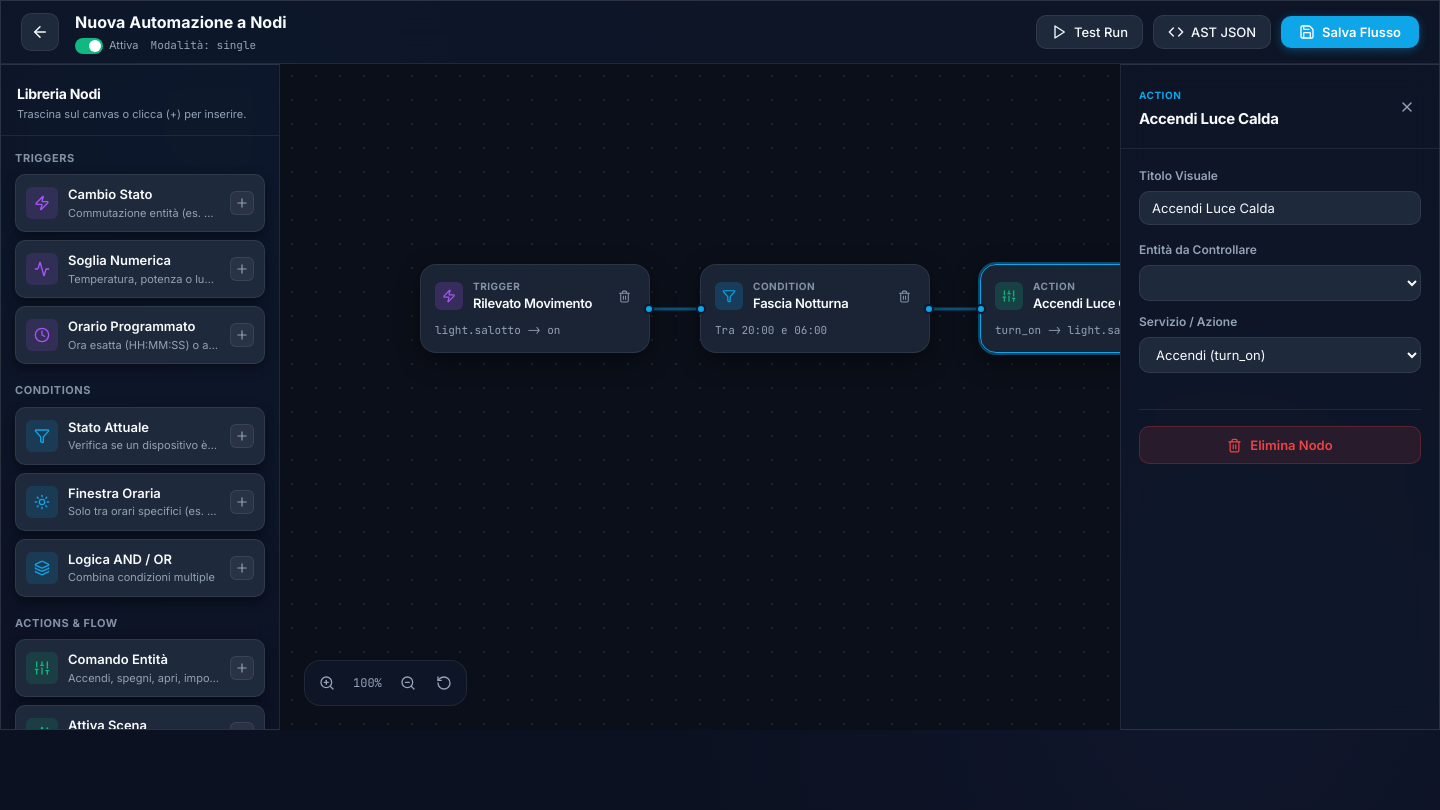
it: FlowEditorView.vue › opens AST JSON modal when clicking AST JSON button
What coordinates should you click on to do the following:
click the button with class "btn-tool" showing "AST JSON"
I would click on:
 (1212, 32)
Its box is [1153,15,1271,49].
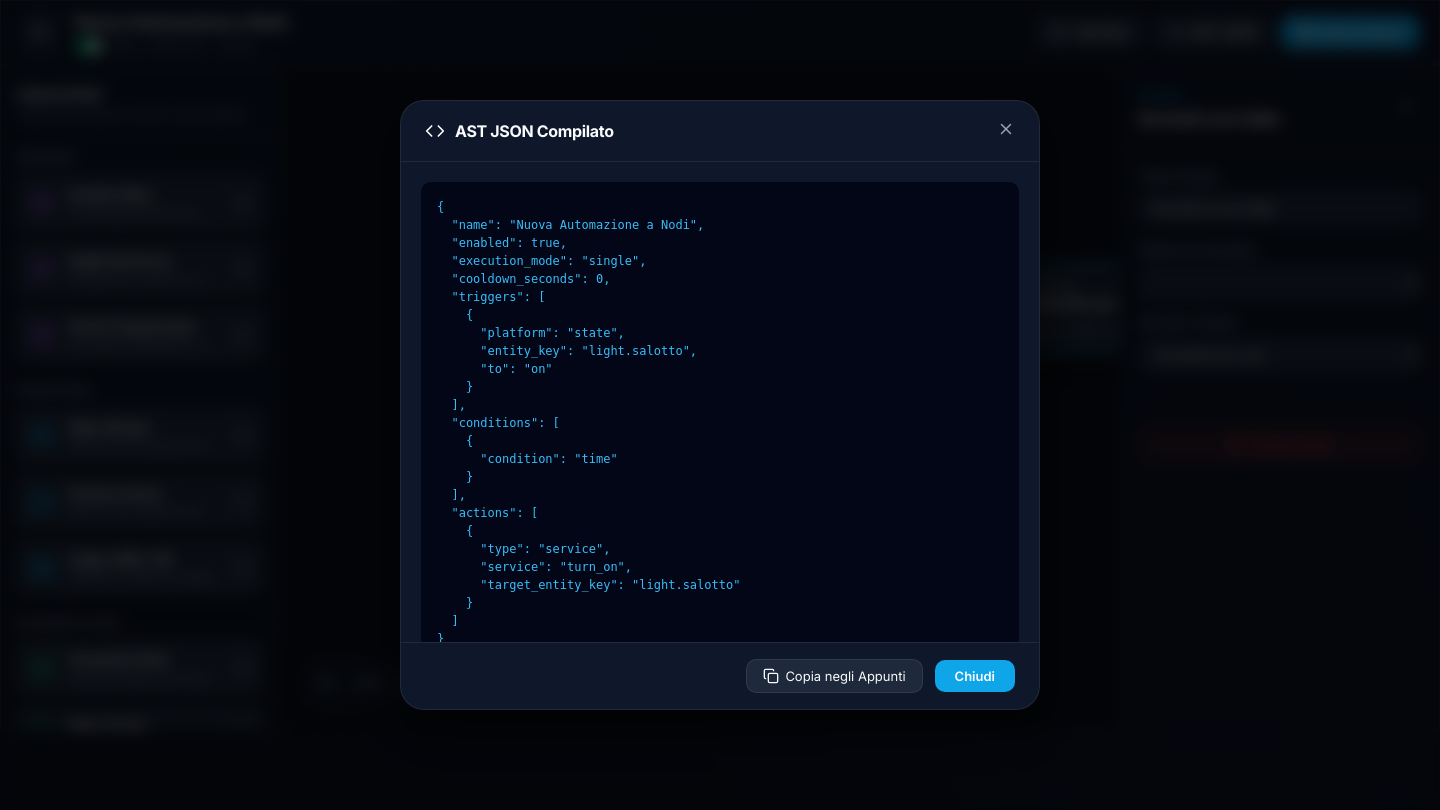
Check: the element with class "modal-backdrop" is shown
Check: the text "AST JSON Compilato" is shown, box [455,119,614,143]
